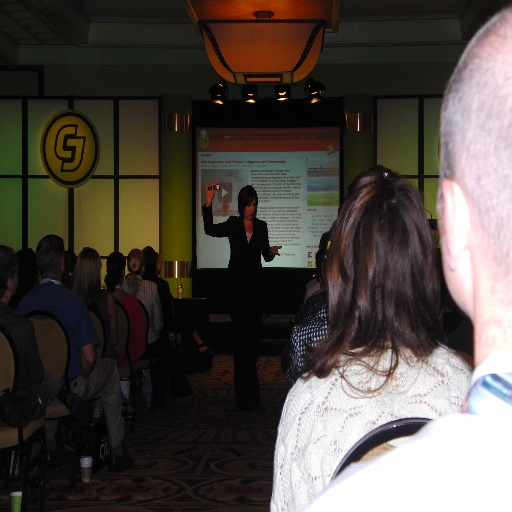hand: (205, 181, 214, 202), (268, 245, 283, 256)
